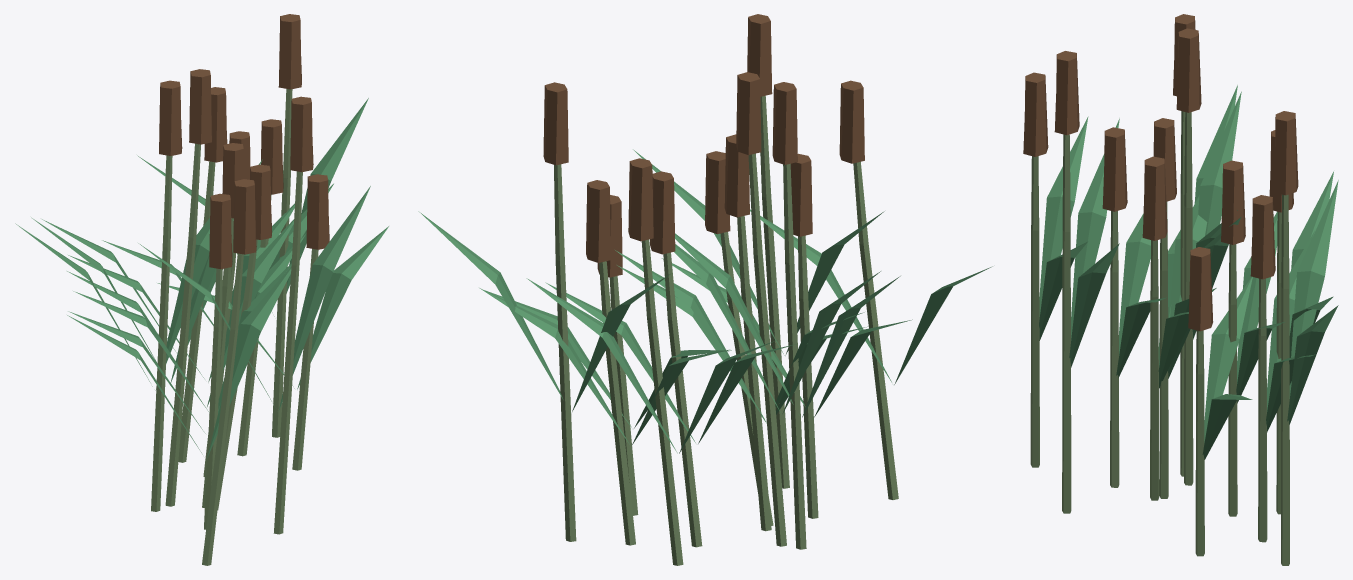
The model's file is river_reeds.glb.
3 renders of one model, left to right at view 1: azimuth 30°, elevation 25°; view 2: azimuth 150°, elevation 25°; view 3: azimuth 270°, elevation 25°, orthographic. The views are drawn at different scales.
Visible parts, largest first — view 1: river_reeds / mesh; view 2: river_reeds / mesh; view 3: river_reeds / mesh.
Part boxes in pixels (x1=…): river_reeds / mesh: x1=15, y1=14, x2=388, y2=565; river_reeds / mesh: x1=418, y1=14, x2=992, y2=565; river_reeds / mesh: x1=1023, y1=14, x2=1338, y2=565.
Size of the model in its own units: 2.5 by 2.44 by 1.49.
